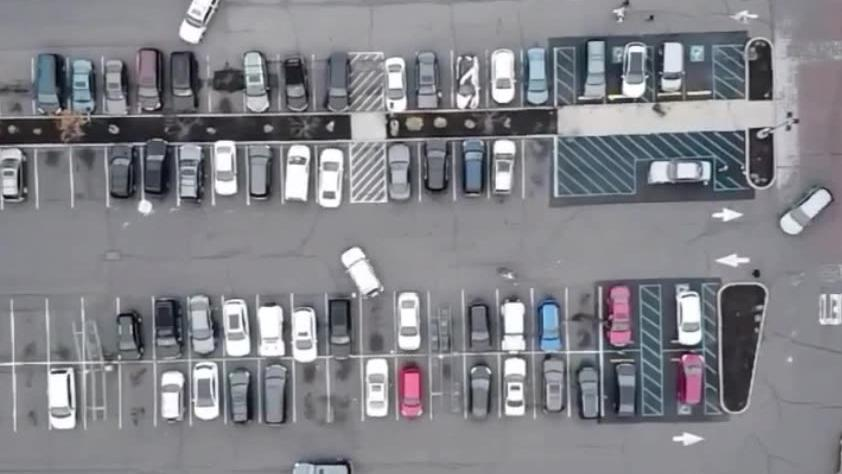car: (778, 184, 834, 242), (341, 242, 387, 299), (357, 357, 395, 424), (44, 364, 79, 434), (29, 54, 65, 119), (167, 50, 202, 115), (315, 148, 350, 213), (644, 157, 715, 189), (134, 46, 165, 115), (102, 148, 138, 207), (172, 0, 219, 45), (500, 358, 533, 422), (257, 362, 289, 428), (184, 362, 218, 424), (488, 137, 521, 200), (139, 140, 172, 203), (223, 367, 255, 430), (324, 297, 355, 362), (321, 52, 352, 116), (280, 145, 313, 205), (285, 307, 319, 365), (149, 295, 180, 358), (155, 369, 186, 432), (245, 141, 277, 202), (605, 283, 635, 348), (395, 283, 424, 348), (240, 51, 268, 118), (464, 362, 495, 422), (394, 362, 425, 422), (254, 301, 286, 359), (616, 43, 649, 99), (220, 298, 250, 359), (386, 142, 415, 204), (423, 139, 453, 198), (461, 137, 490, 198), (496, 299, 527, 356), (486, 48, 515, 108), (413, 48, 442, 108), (573, 363, 601, 425), (656, 40, 687, 96), (174, 143, 203, 202), (678, 354, 707, 413), (581, 42, 610, 100), (66, 61, 95, 119), (112, 309, 142, 365), (611, 360, 638, 422), (675, 290, 703, 349), (524, 46, 551, 107), (283, 55, 309, 118), (382, 54, 409, 114), (189, 293, 214, 357), (451, 52, 479, 109), (538, 357, 565, 416), (210, 141, 236, 202), (0, 151, 27, 209), (536, 300, 565, 353), (103, 53, 128, 114), (289, 453, 353, 474), (466, 303, 490, 356)
